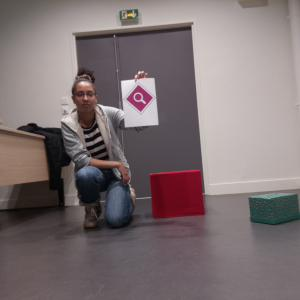search: (126, 83, 156, 112)
